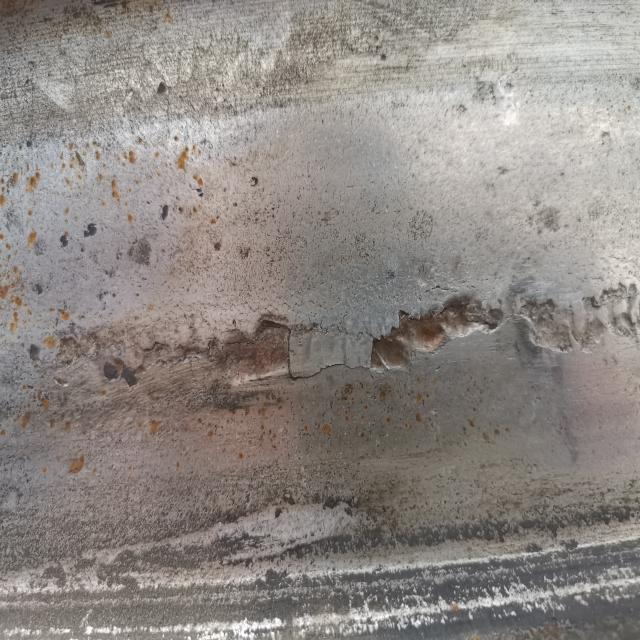Blue hole: (159, 206, 174, 225)
Contact_Fatigue_Cracks: (299, 316, 369, 388)
Peeling: (111, 310, 297, 390), (372, 295, 508, 371), (518, 284, 639, 356), (48, 322, 103, 377)
